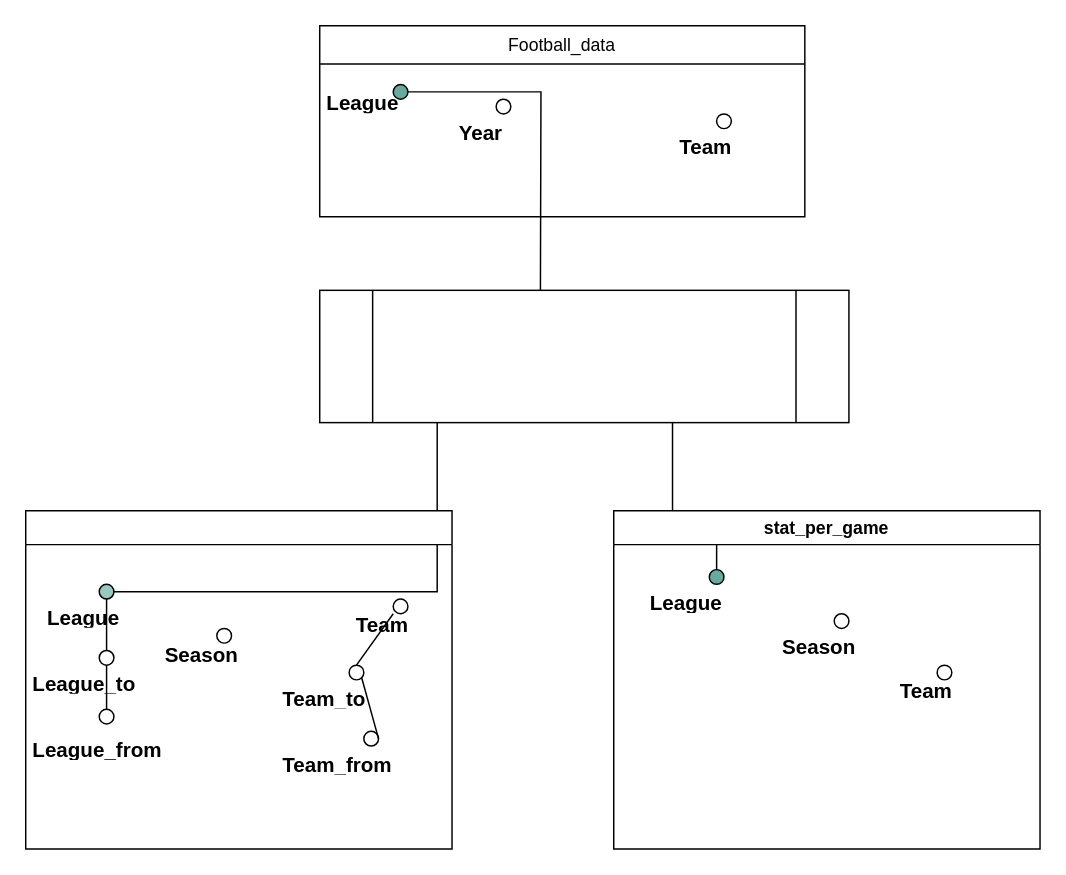
The diagram is 1066 pixels wide and 875 high, and some of its shapes have lost their labels. The box of each missing label's shape, as (x1, y1, x2, y2) in pixels:
Europe Top Five Leagues: (318, 289, 849, 423)
transfer: (24, 509, 452, 849)
